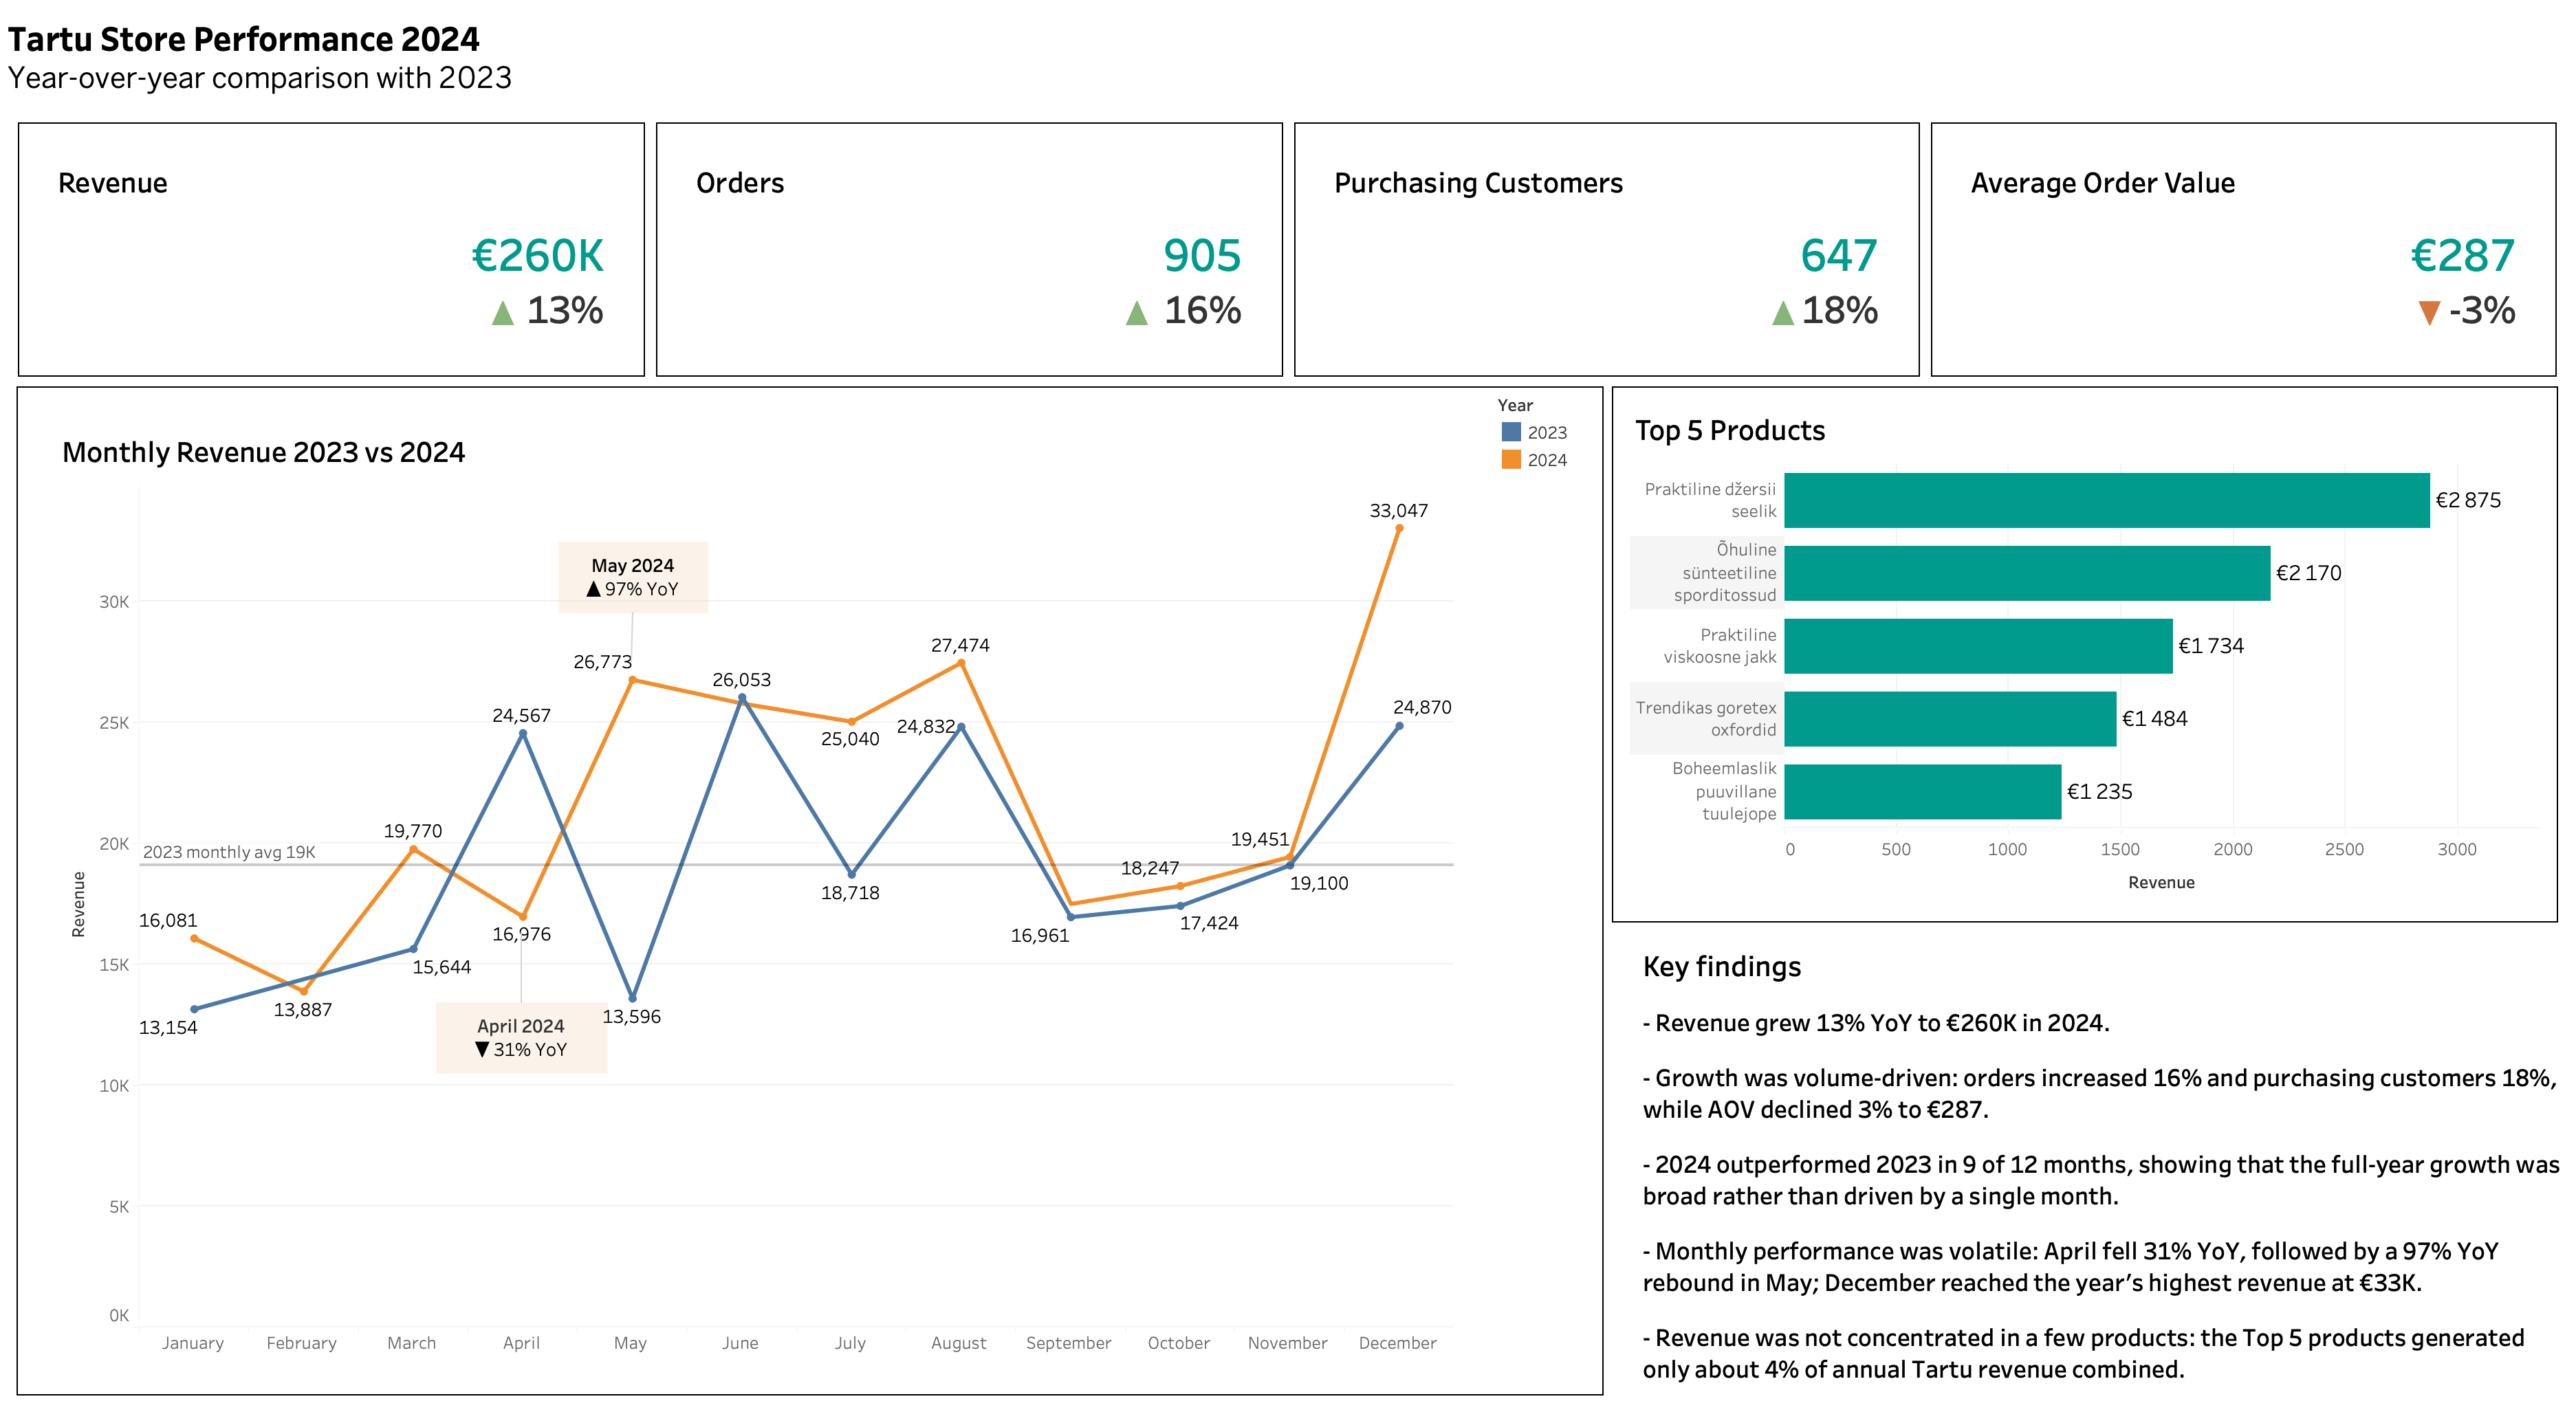

This screenshot's page, from the dashboard's own definition file:
{"tool":"tableau","page":{"name":"Dashboard 1","canvas":[1000,1000],"units":"permille","ordinal":0},"visuals":[{"type":"worksheet","title":"Sheet 2","mark":"Automatic","box":[3.2,6.7,331.5,191.5]},{"type":"worksheet","title":"Sheet 5","mark":"Automatic","box":[334.7,6.7,331.1,191.5]},{"type":"worksheet","title":"Sheet 3","mark":"Automatic","box":[665.8,6.7,331.1,191.5]},{"type":"worksheet","title":"Sheet 1","mark":"Automatic","rows":["total_price"],"cols":["sale_date"],"box":[3.2,198.1,993.7,693.6]},{"type":"text","box":[3.2,891.7,993.7,101.6]}]}

Visuals, with their boxes on the dashboard's canvas, which has no fixed pixel size, in thousandths of its width and height (x1, y1, x2, y2). These are canvas units, not pixel positions in the 2576x1412 screenshot, which may show the page scaled, cropped or inside an application window:
"Sheet 2" worksheet: x1=3 y1=7 x2=335 y2=198
"Sheet 5" worksheet: x1=335 y1=7 x2=666 y2=198
"Sheet 3" worksheet: x1=666 y1=7 x2=997 y2=198
"Sheet 1" worksheet: x1=3 y1=198 x2=997 y2=892
text: x1=3 y1=892 x2=997 y2=993
